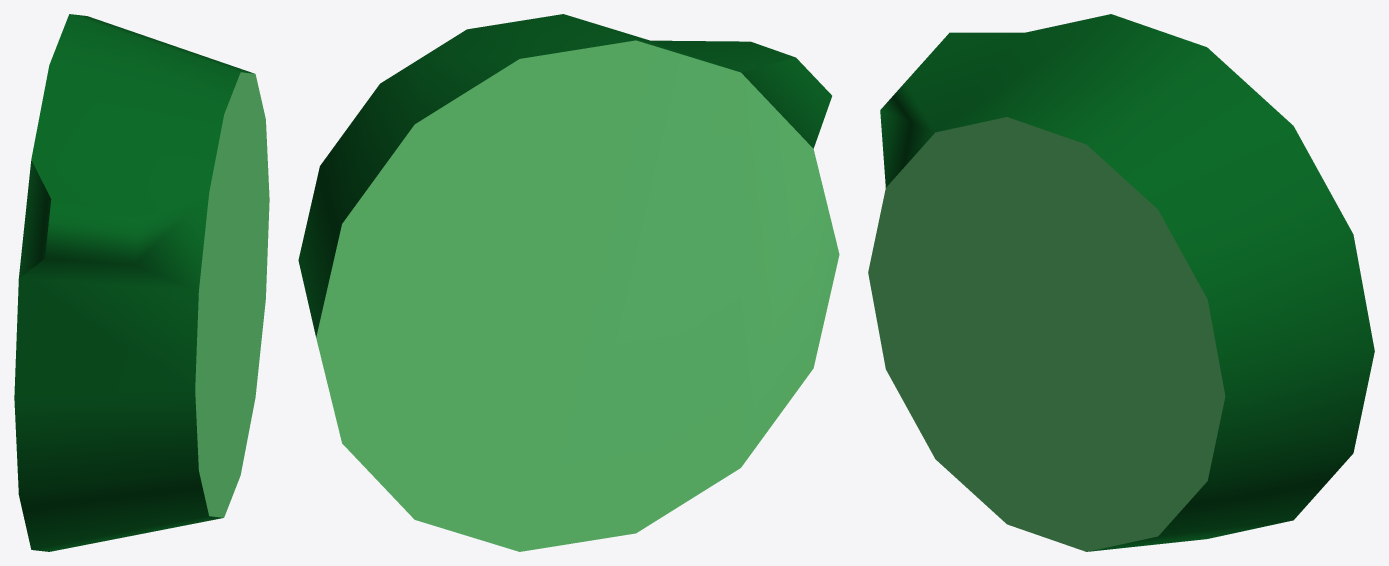
Rendered from mesh_PickleSlice_Stage14.fbx.
3 views of the same model, side by side, from view 1: azimuth 30°, elevation 25°; view 2: azimuth 150°, elevation 25°; view 3: azimuth 270°, elevation 25° (orthographic).
Parts seen in each view (by area): view 1: mesh_PickleSlice_Stage14; view 2: mesh_PickleSlice_Stage14; view 3: mesh_PickleSlice_Stage14.
Boxes of the visible parts, left/top/right/bottom form: mesh_PickleSlice_Stage14: left=14, top=14, right=269, bottom=551; mesh_PickleSlice_Stage14: left=298, top=14, right=839, bottom=551; mesh_PickleSlice_Stage14: left=868, top=14, right=1374, bottom=551.
Bounding box in the file's own units: 0.0235 × 0.0277 × 0.0259.
